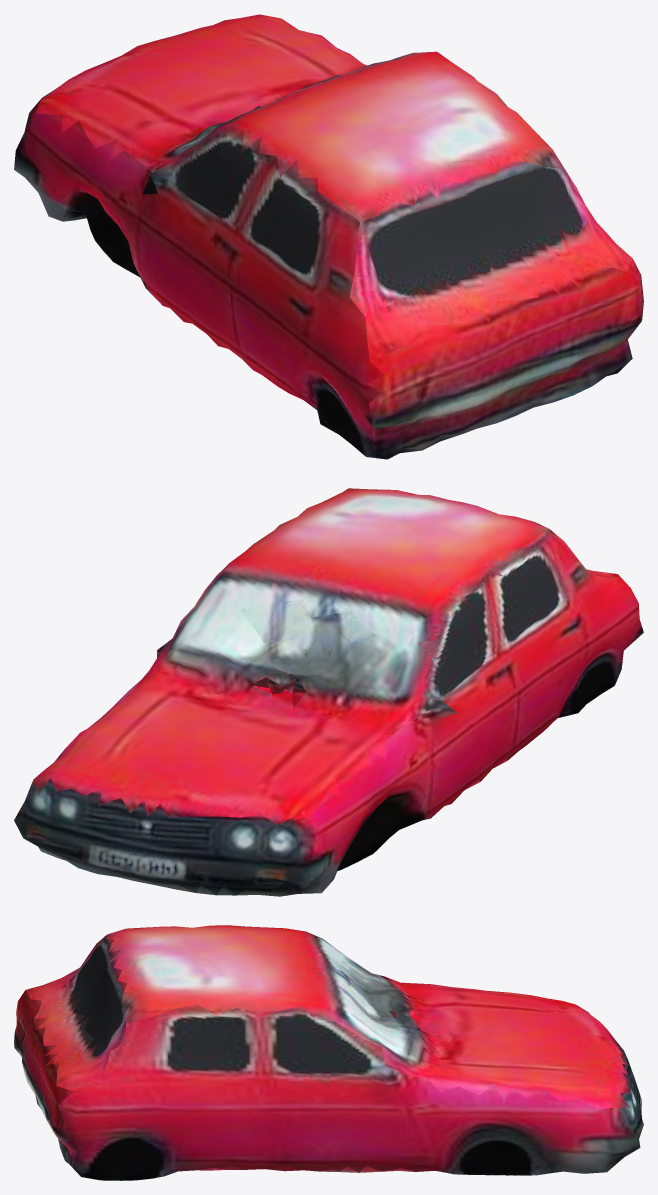
File: dacia-2c.glb
The picture shows the model from 3 angles, top to bottom: view 1: azimuth 30°, elevation 25°; view 2: azimuth 150°, elevation 25°; view 3: azimuth 270°, elevation 25°; orthographic projection. The views are drawn at different scales.
Parts seen in each view (by area): view 1: geometry_0.001; view 2: geometry_0.001; view 3: geometry_0.001.
Part boxes in pixels (<box>): geometry_0.001: <box>14,14,643,459</box>; geometry_0.001: <box>14,488,643,896</box>; geometry_0.001: <box>14,925,643,1180</box>.
Size of the model in its own units: 1.84 by 1.21 by 4.05.
Materials: 1 (1 with a texture image).
